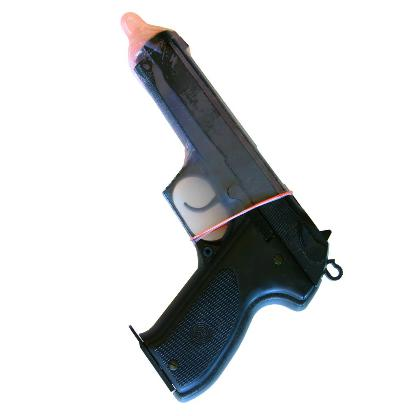gun: (128, 30, 342, 402)
